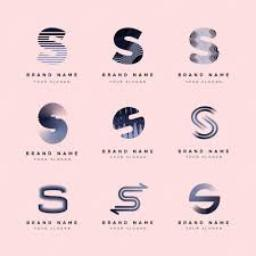s: (24, 178, 86, 220), (98, 20, 150, 66), (178, 25, 224, 71)
